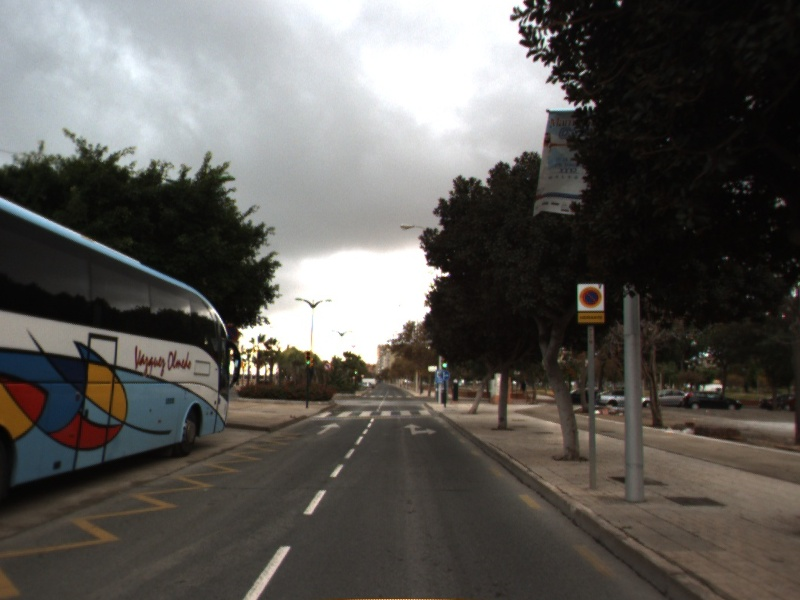STRAIGHT: (314, 420, 342, 436)
STRAIGHT_RIGHT: (402, 422, 439, 437)
